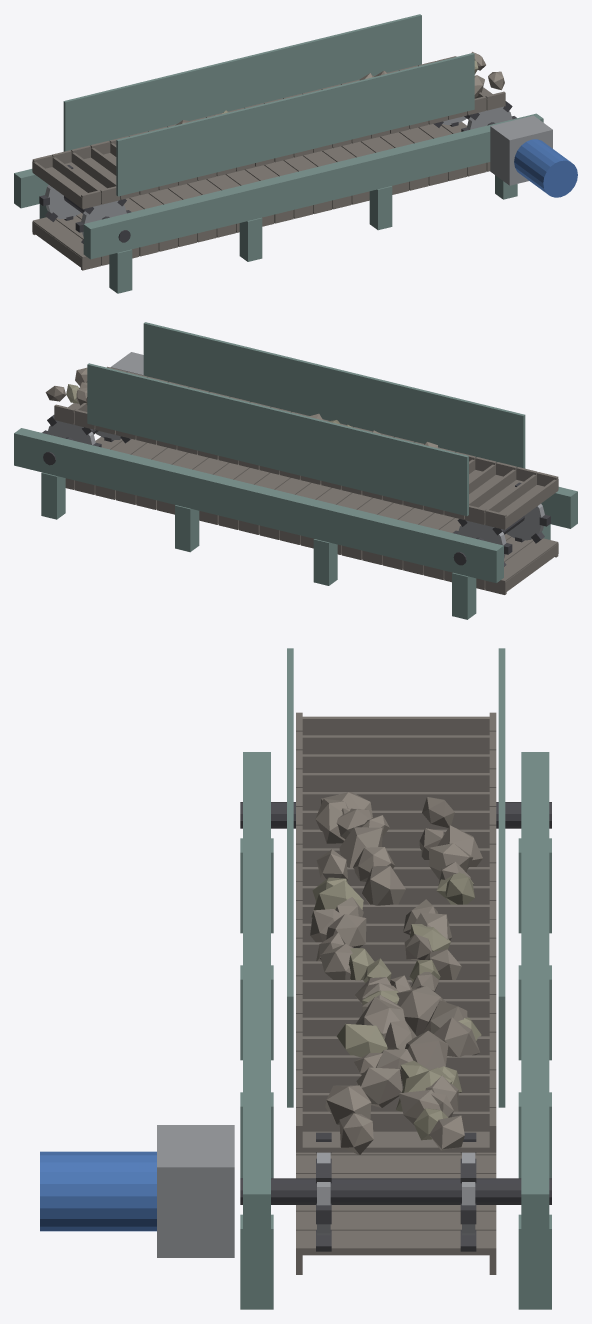
The model's file is SK_ApronFeeder.glb.
The picture shows the model from 3 angles, top to bottom: view 1: azimuth 30°, elevation 25°; view 2: azimuth 150°, elevation 25°; view 3: azimuth 270°, elevation 25°; orthographic projection. The views are drawn at different scales.
Visible parts, largest first — view 1: SK_Feeder_Frame, SK_Feeder_Pans_Bottom, SK_Feeder_Pans_Top, SK_Feeder_Sprocket_Tail, SK_Feeder_Sprocket_Head; view 2: SK_Feeder_Frame, SK_Feeder_Pans_Bottom, SK_Feeder_Pans_Top, SK_Feeder_Sprocket_Tail, SK_Feeder_Sprocket_Head; view 3: SK_Feeder_Pans_Top, SK_Feeder_Frame, SK_Feeder_Pans_Bottom, SK_Feeder_Sprocket_Head, SK_Feeder_Sprocket_Tail.
Part boxes in pixels (x1=…): SK_Feeder_Frame: x1=14, y1=14, x2=577, y2=293; SK_Feeder_Pans_Bottom: x1=32, y1=122, x2=490, y2=270; SK_Feeder_Pans_Top: x1=32, y1=52, x2=505, y2=209; SK_Feeder_Sprocket_Tail: x1=39, y1=165, x2=131, y2=243; SK_Feeder_Sprocket_Head: x1=433, y1=101, x2=516, y2=131; SK_Feeder_Frame: x1=14, y1=322, x2=577, y2=619; SK_Feeder_Pans_Bottom: x1=65, y1=436, x2=558, y2=594; SK_Feeder_Pans_Top: x1=45, y1=366, x2=558, y2=529; SK_Feeder_Sprocket_Tail: x1=453, y1=482, x2=550, y2=566; SK_Feeder_Sprocket_Head: x1=42, y1=415, x2=130, y2=465; SK_Feeder_Pans_Top: x1=296, y1=712, x2=496, y2=1154; SK_Feeder_Frame: x1=40, y1=648, x2=551, y2=1309; SK_Feeder_Pans_Bottom: x1=296, y1=1152, x2=496, y2=1274; SK_Feeder_Sprocket_Head: x1=240, y1=1132, x2=551, y2=1251; SK_Feeder_Sprocket_Tail: x1=240, y1=802, x2=551, y2=828.
Size of the model in its own units: 9.4 by 2.8 by 4.6.
